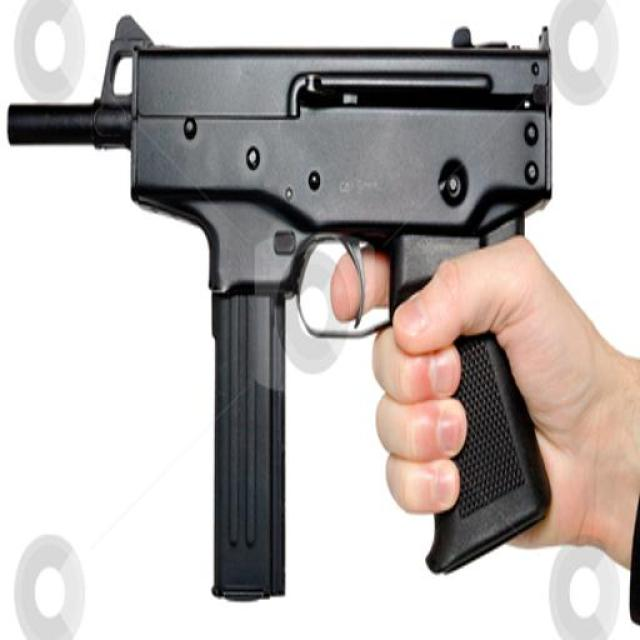pistol: (107, 19, 551, 560)
